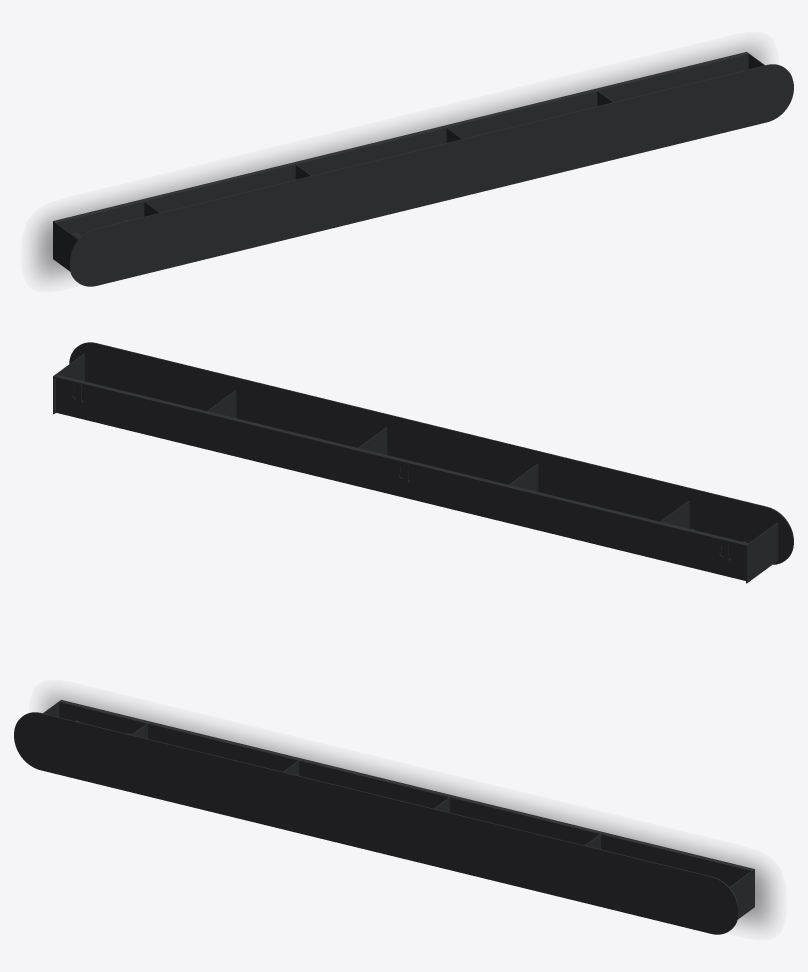
The model's file is round-patron.aeb5e372d1.ar.glb.
3 views of the same model, one above another, from view 1: azimuth 30°, elevation 25°; view 2: azimuth 150°, elevation 25°; view 3: azimuth 330°, elevation 25° (orthographic).
Parts seen in each view (by area): view 1: NAUO1, object 2; view 2: NAUO1; view 3: NAUO1, object 2.
Boxes of the visible parts, bbox=[...] form: NAUO1: bbox=[53, 52, 793, 286]; object 2: bbox=[33, 45, 766, 278]; NAUO1: bbox=[53, 342, 793, 583]; NAUO1: bbox=[14, 700, 754, 934]; object 2: bbox=[41, 693, 774, 926].
Bounding box in the file's own units: 1.28 × 0.17 × 0.092.
Materials: 2 (1 with a texture image).
